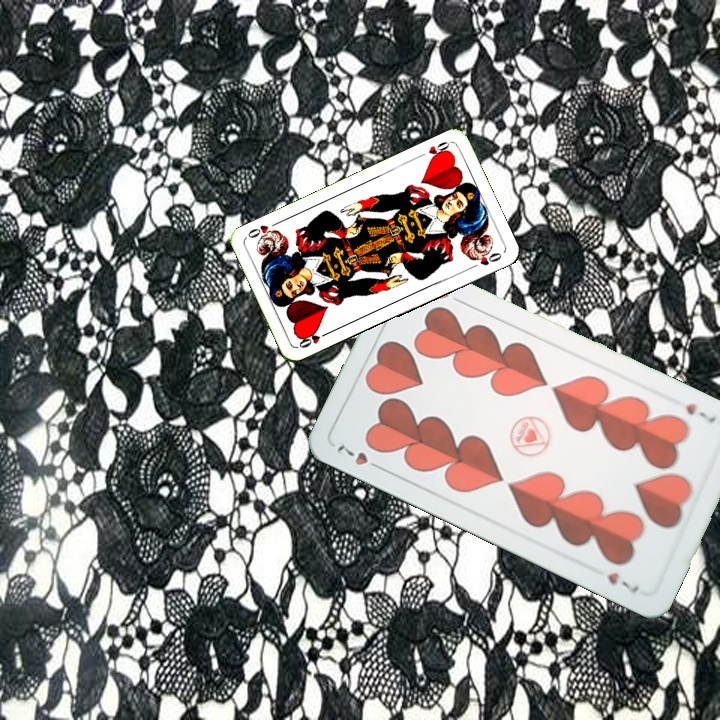H7: (332, 441, 387, 474), (681, 399, 719, 426)
HO: (414, 137, 453, 163), (295, 327, 333, 351)
